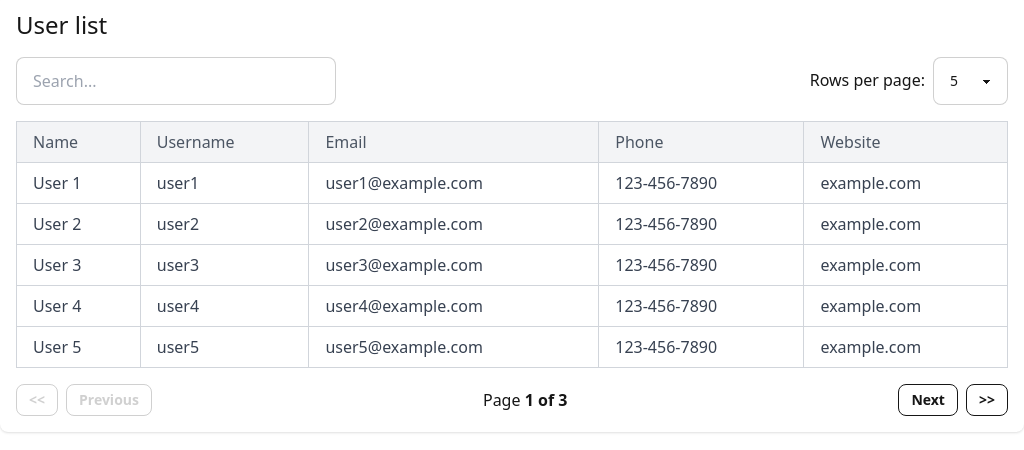
Test: UserTable Component › handles pagination correctly
This screenshot has width=1024, height=450.
Check: the text "User 1" is shown, box [16,162,140,204]
Check: the text "User 5" is shown, box [16,326,140,368]
Click "Next" button to go to the next page
Click the button "Next" at (928, 400), box [898,384,958,416]
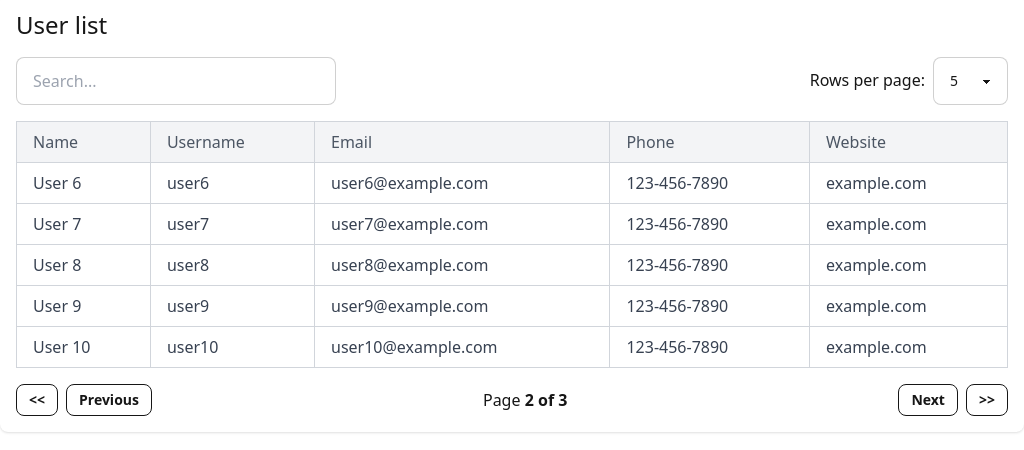
Check: the text "User 6" is shown, box [16,162,150,204]
